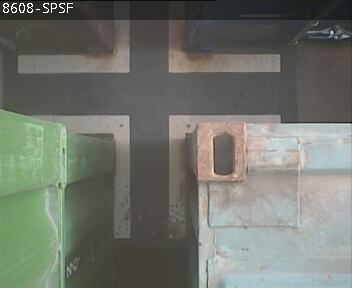groundmarker_1: (29, 113, 283, 238), (16, 1, 280, 73)
